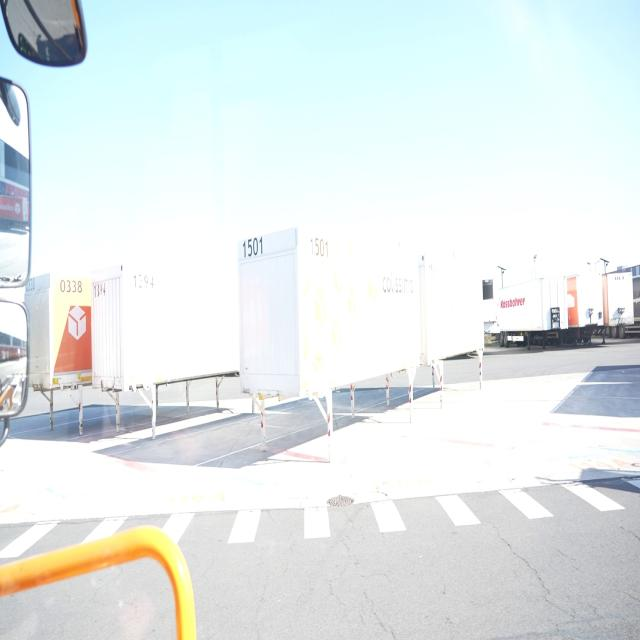Code: (238, 232, 267, 264), (306, 228, 332, 262), (128, 268, 157, 296), (57, 272, 84, 299), (88, 275, 112, 304)
